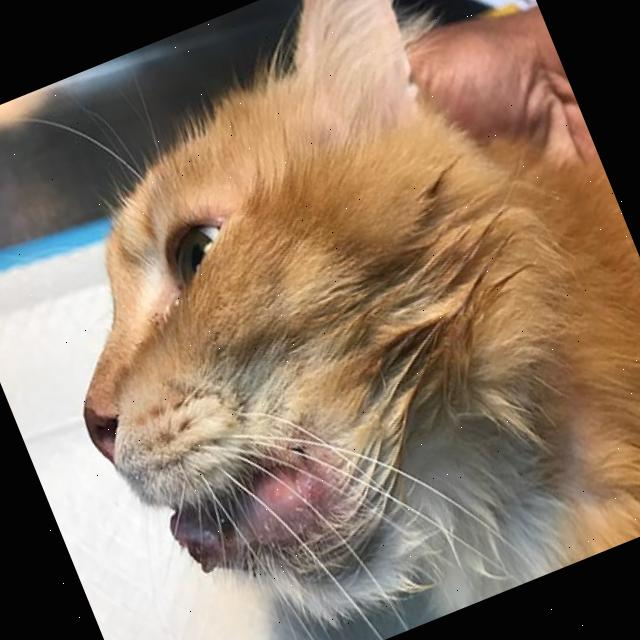cat-ulcer: (168, 451, 342, 584)
